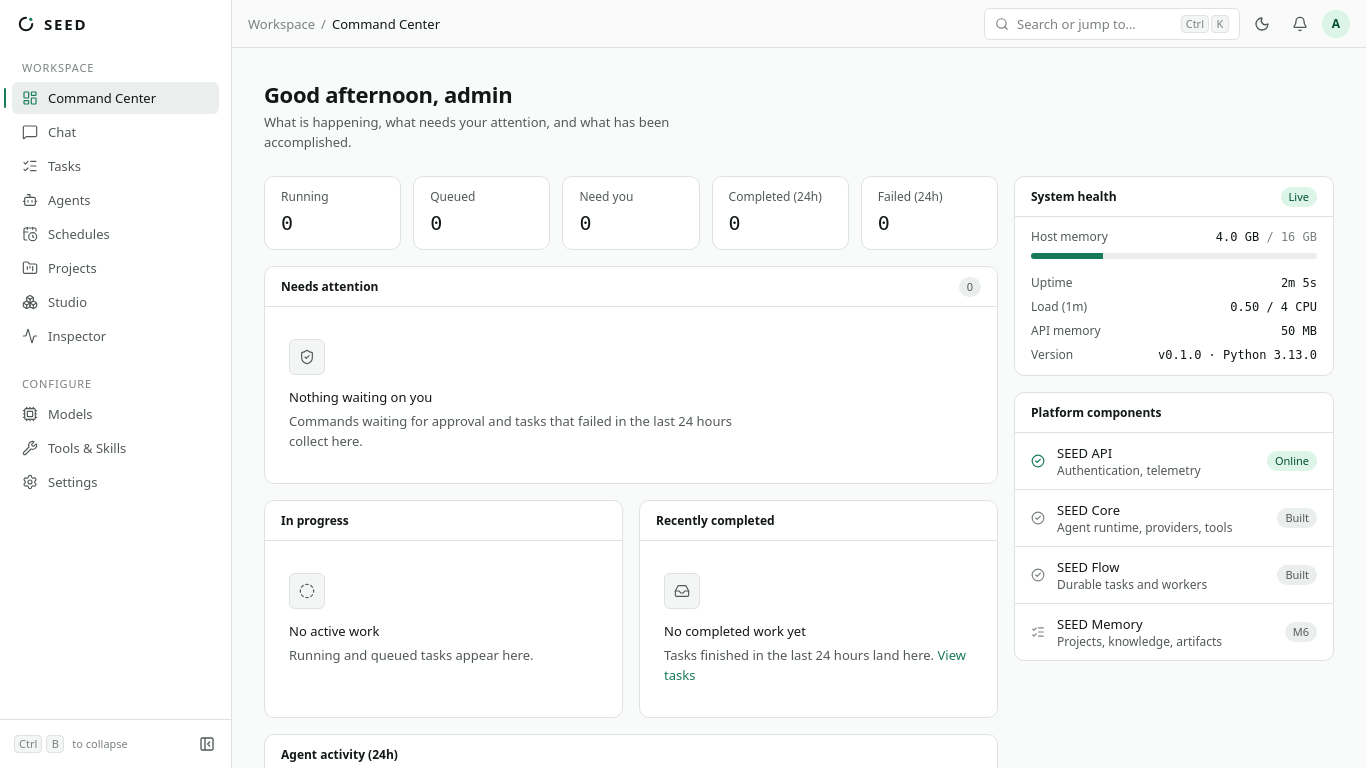
Scenario: workspace shell › signs out from the account menu
Click the button named "Account menu" at x=1336, y=24, box x1=1322 y1=10 x2=1350 y2=38
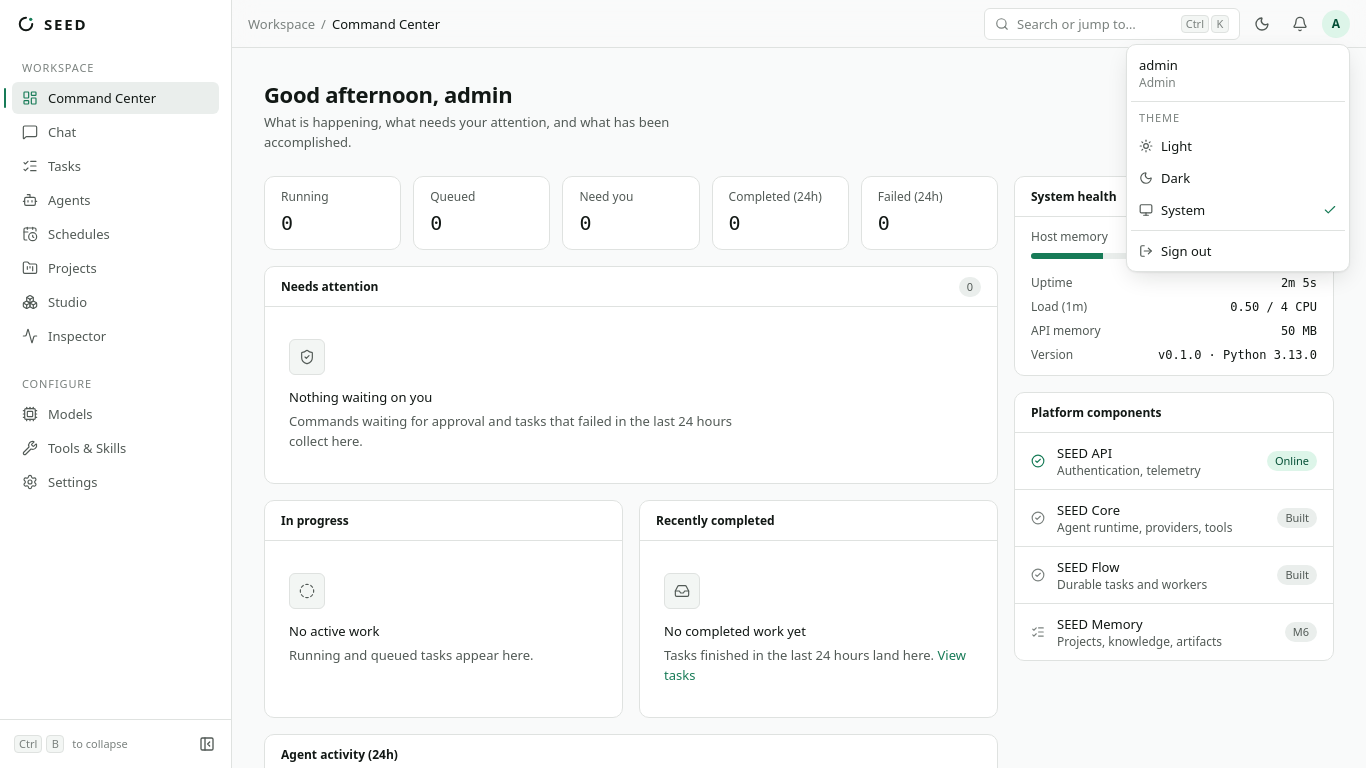
Click the menu item "Sign out" at x=1175, y=251, box x1=1139 y1=242 x2=1212 y2=260
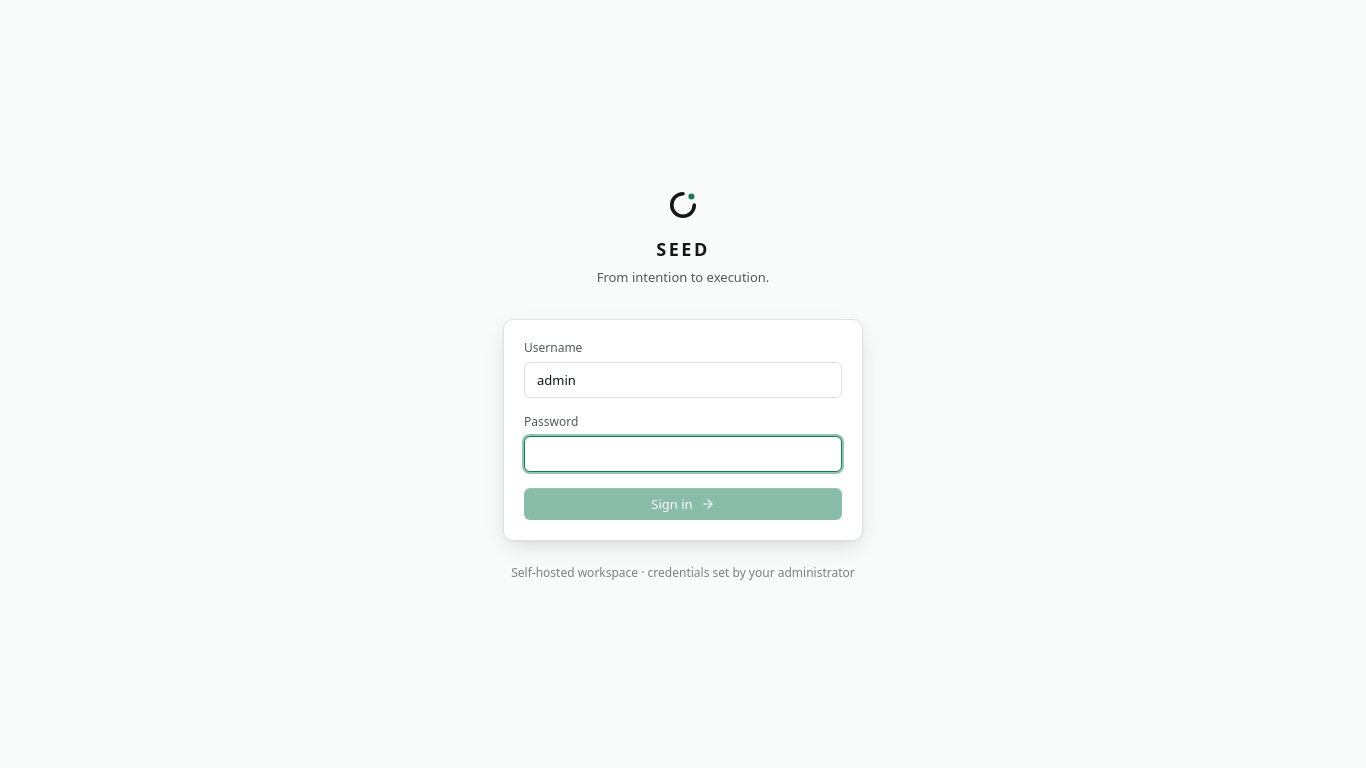
Expected: the password field labelled "Password" is shown, x1=524 y1=436 x2=842 y2=472
